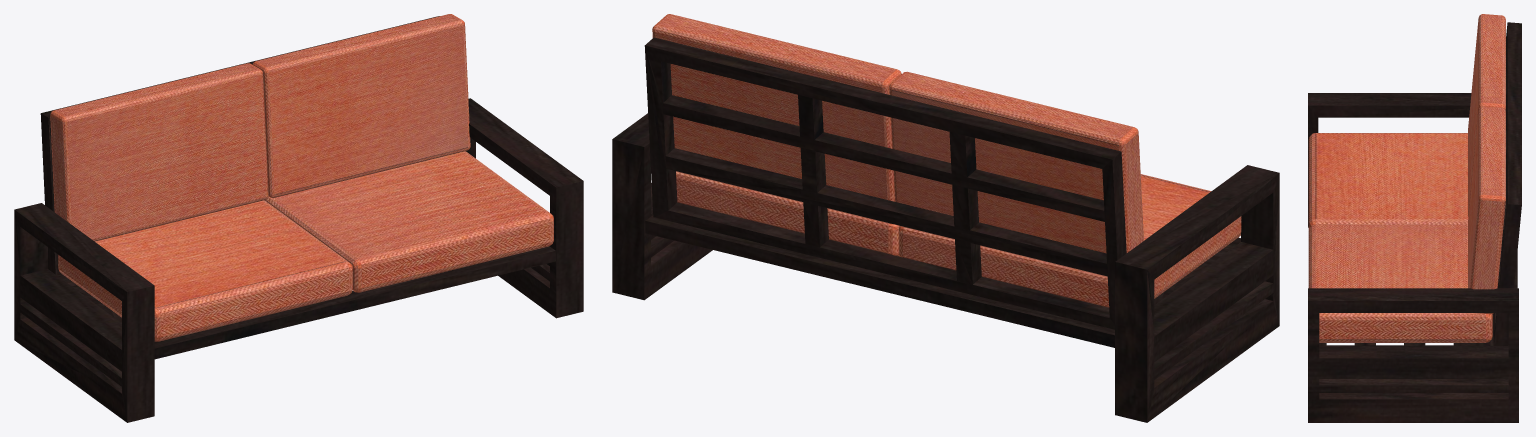
The model's file is parasona.obj.
The picture shows the model from 3 angles, left to right: view 1: azimuth 30°, elevation 25°; view 2: azimuth 150°, elevation 25°; view 3: azimuth 270°, elevation 25°; orthographic projection. The views are drawn at different scales.
Parts seen in each view (by area): view 1: Mesh06, Mesh04, Mesh05, Mesh07; view 2: Mesh04, Mesh05, Mesh07, Mesh06; view 3: Mesh04, Mesh06, Mesh07, Mesh05.
Part boxes in pixels (<box>): Mesh06: <box>58,151,553,341</box>; Mesh04: <box>14,16,583,422</box>; Mesh05: <box>50,63,268,241</box>; Mesh07: <box>252,14,470,197</box>; Mesh04: <box>612,37,1279,422</box>; Mesh05: <box>889,71,1143,276</box>; Mesh07: <box>652,14,901,223</box>; Mesh06: <box>676,172,1241,307</box>; Mesh04: <box>1308,22,1521,422</box>; Mesh06: <box>1308,133,1492,342</box>; Mesh07: <box>1468,106,1505,314</box>; Mesh05: <box>1468,14,1505,216</box>.
Size of the model in its own units: 72.3 by 34.86 by 31.45.
Materials: 2 (2 with a texture image).
